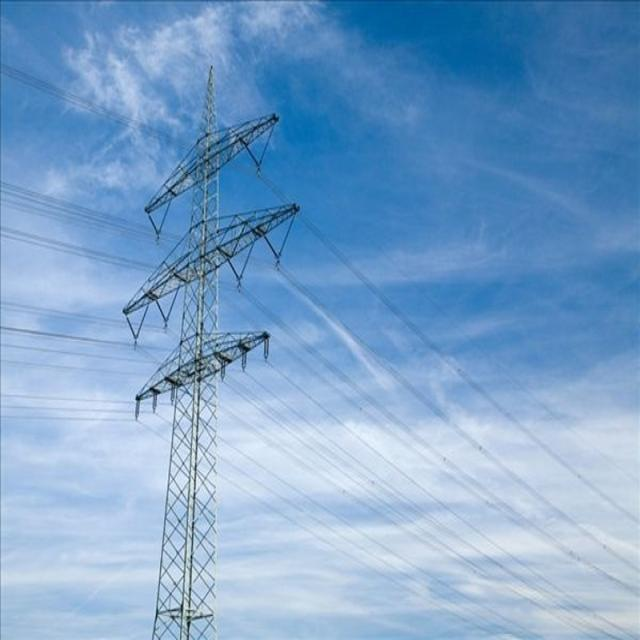non-critical vegetation: (126, 79, 264, 635)
